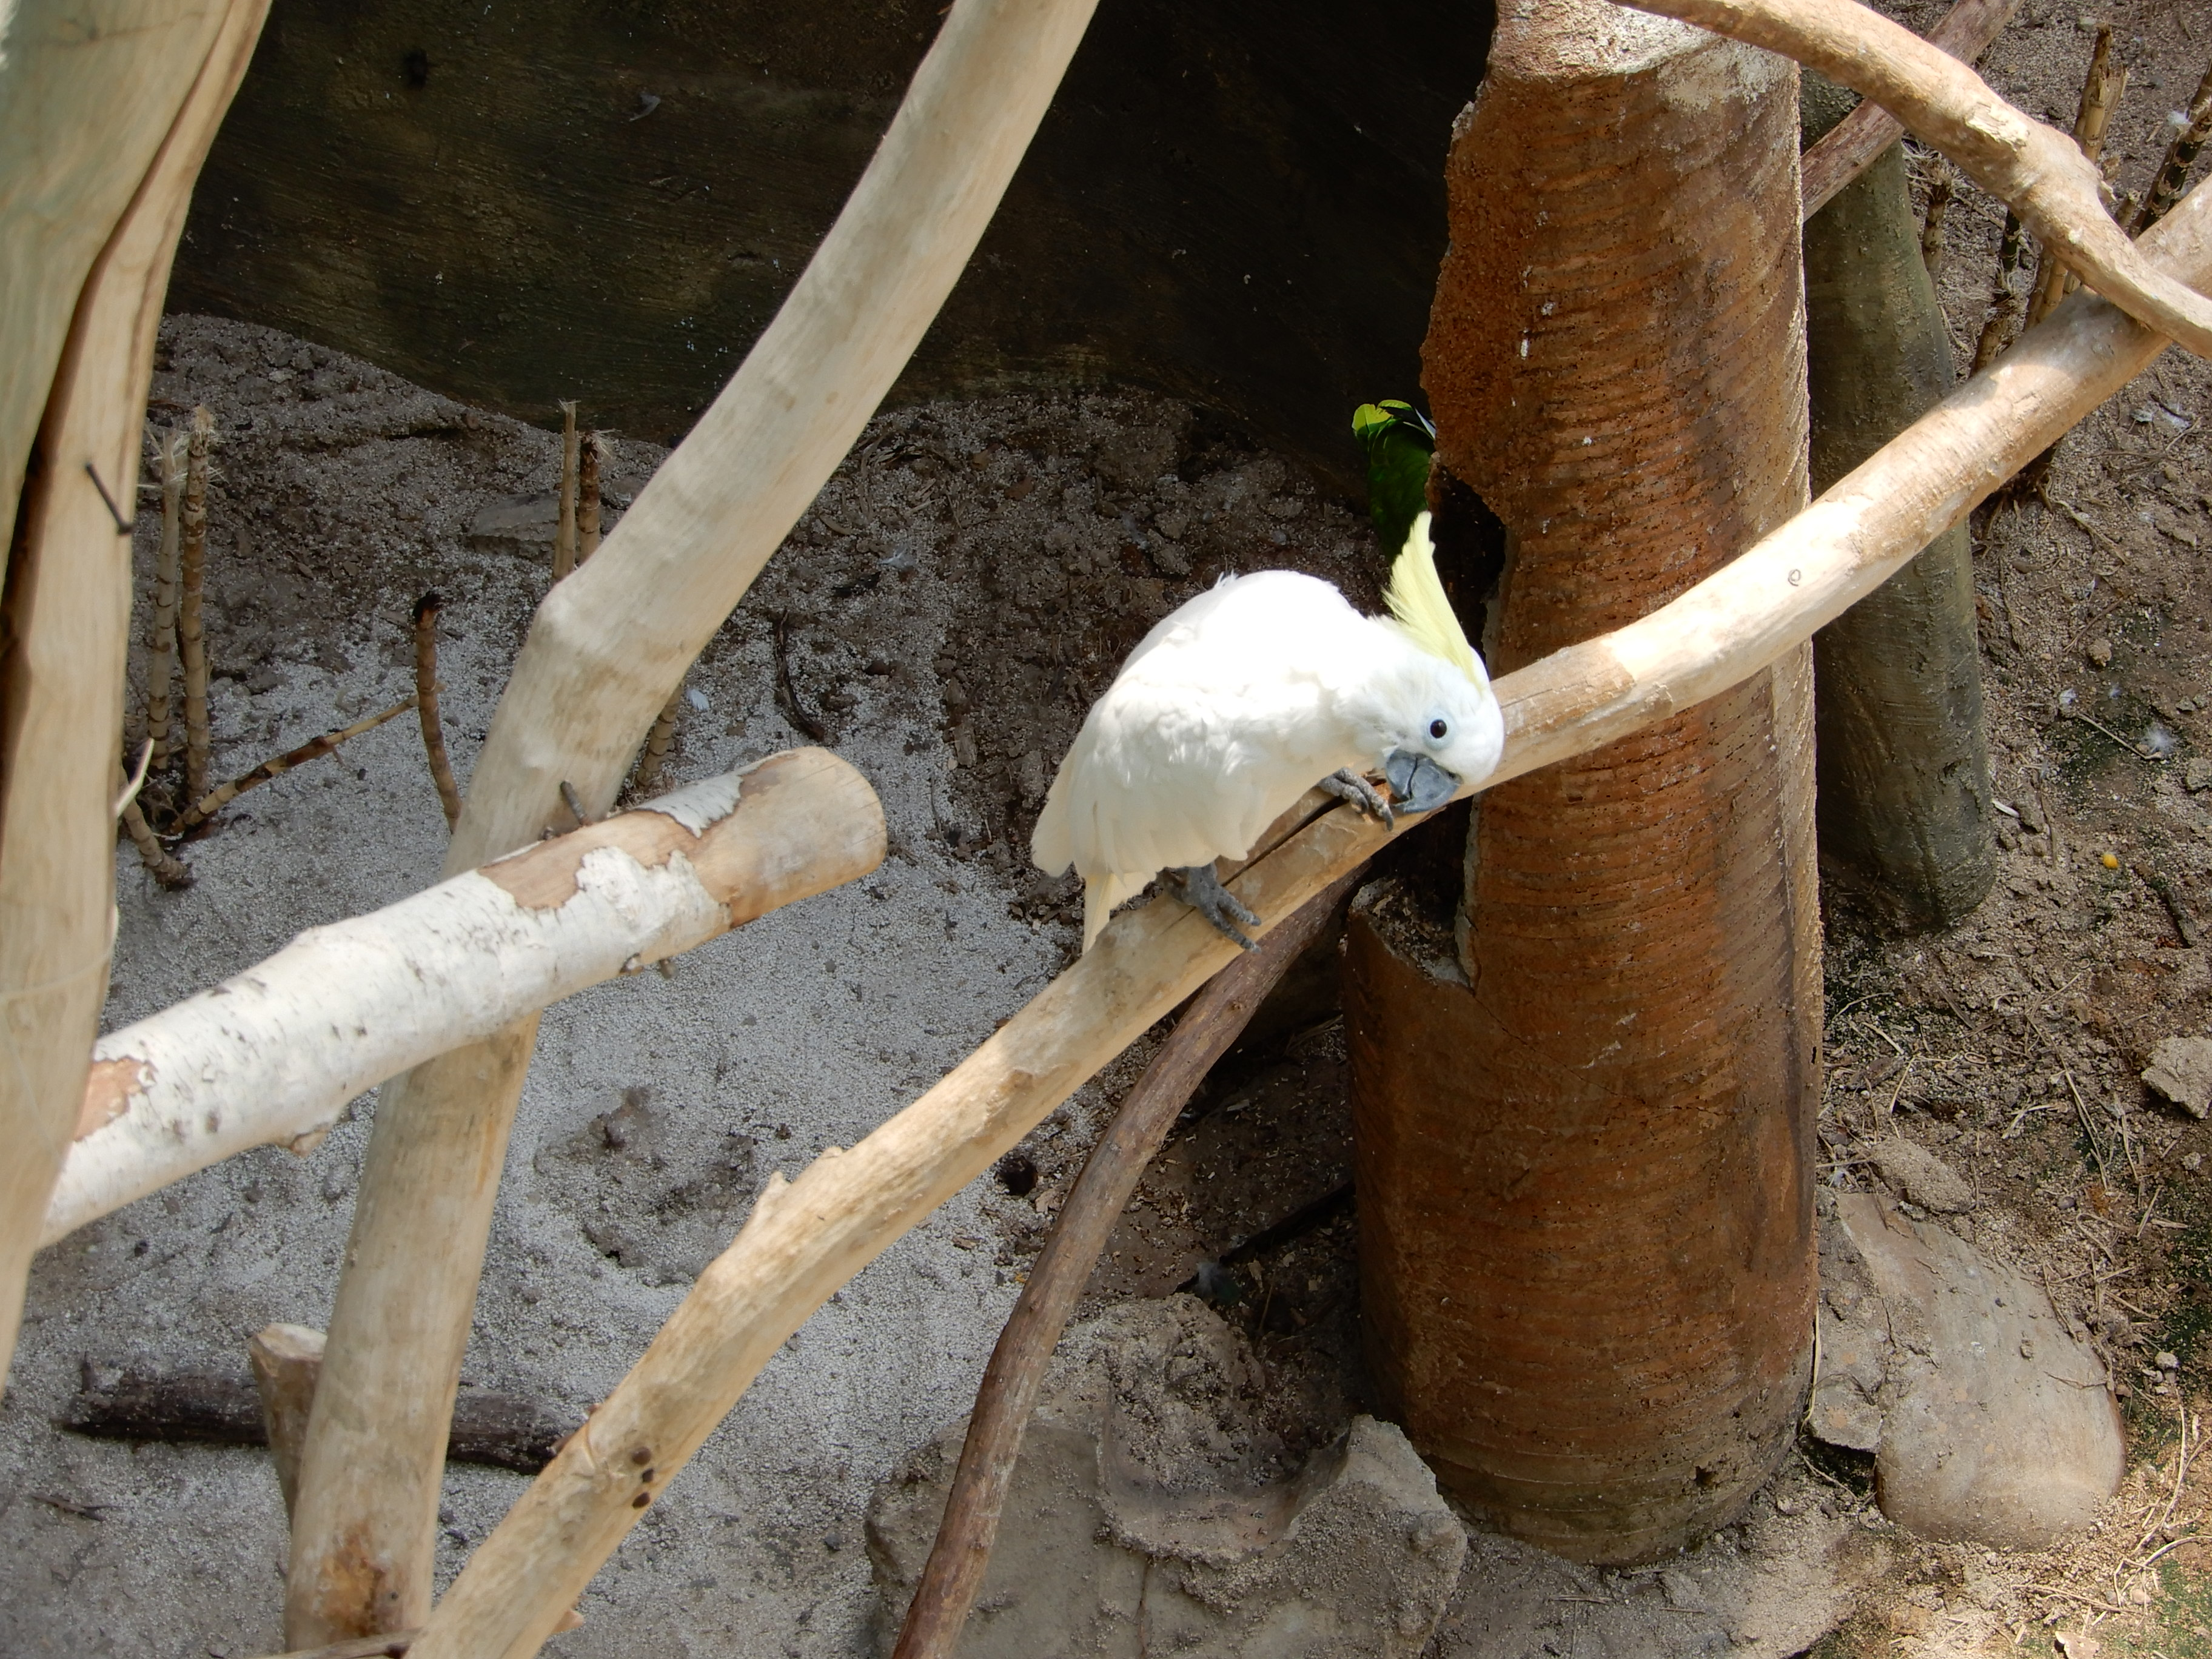Cacatua galerita: (1021, 488, 1514, 962)
